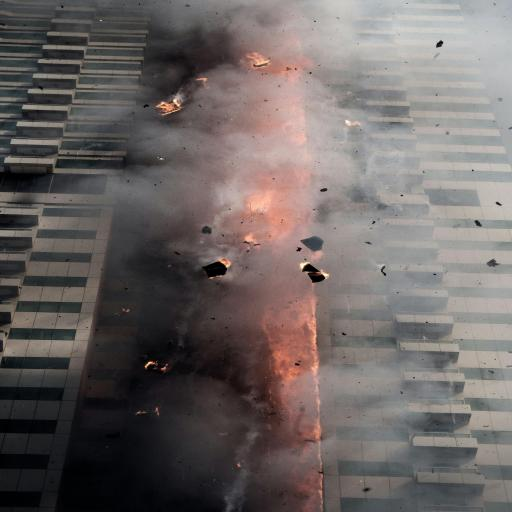buildingfire: (5, 0, 512, 512)
smoke: (58, 0, 324, 512)
